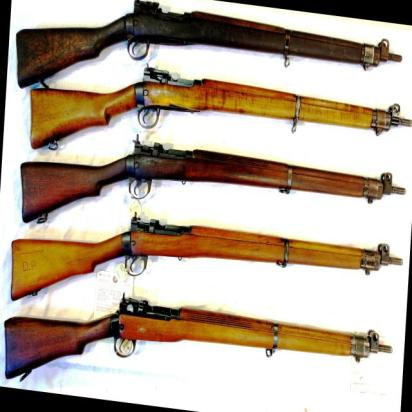Gun: (11, 255, 408, 409), (15, 165, 412, 317), (33, 0, 412, 63)
